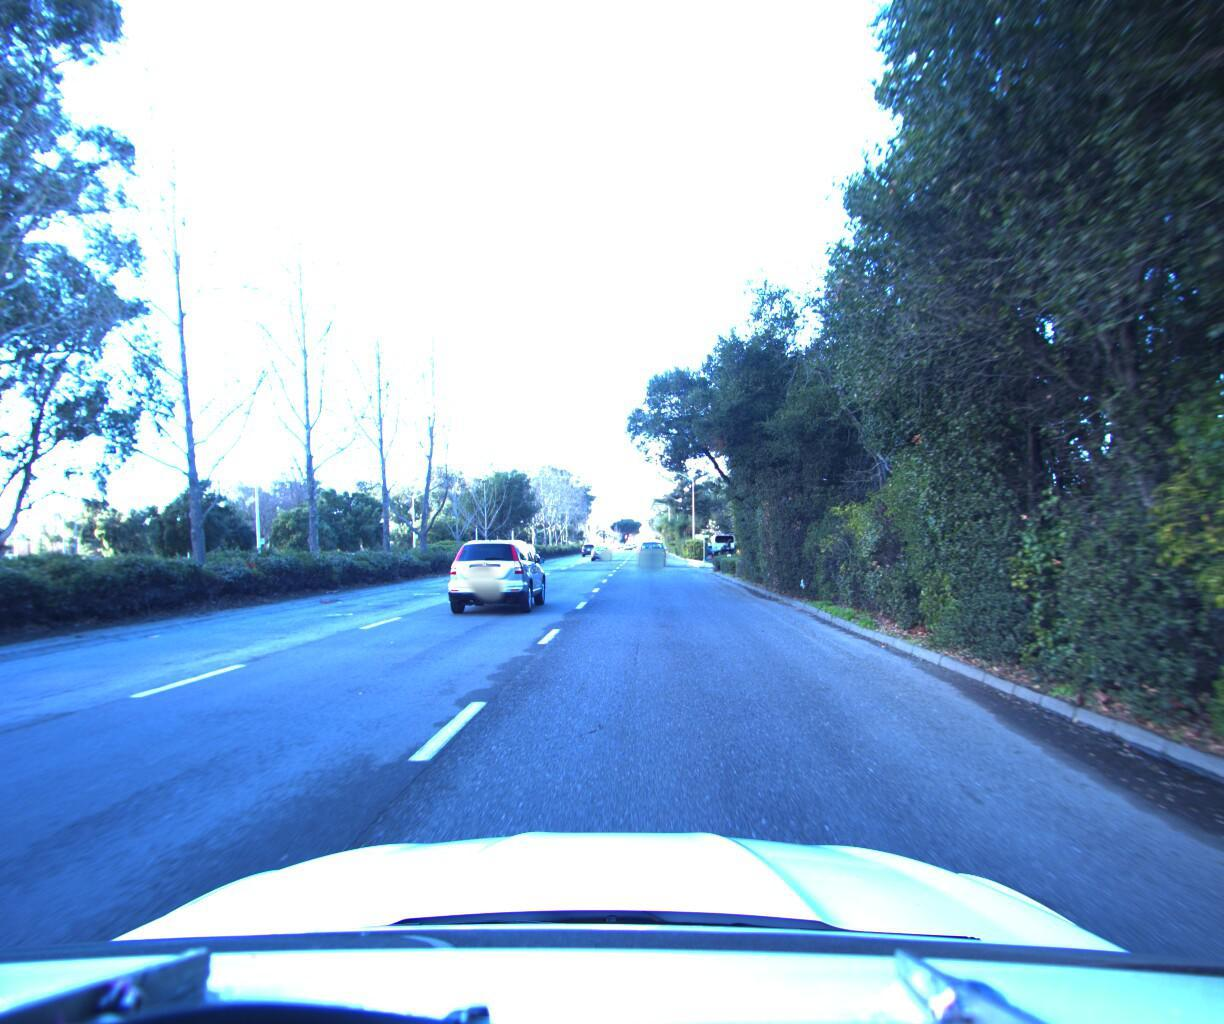car: (439, 528, 551, 613), (632, 534, 668, 563), (587, 538, 610, 555)
